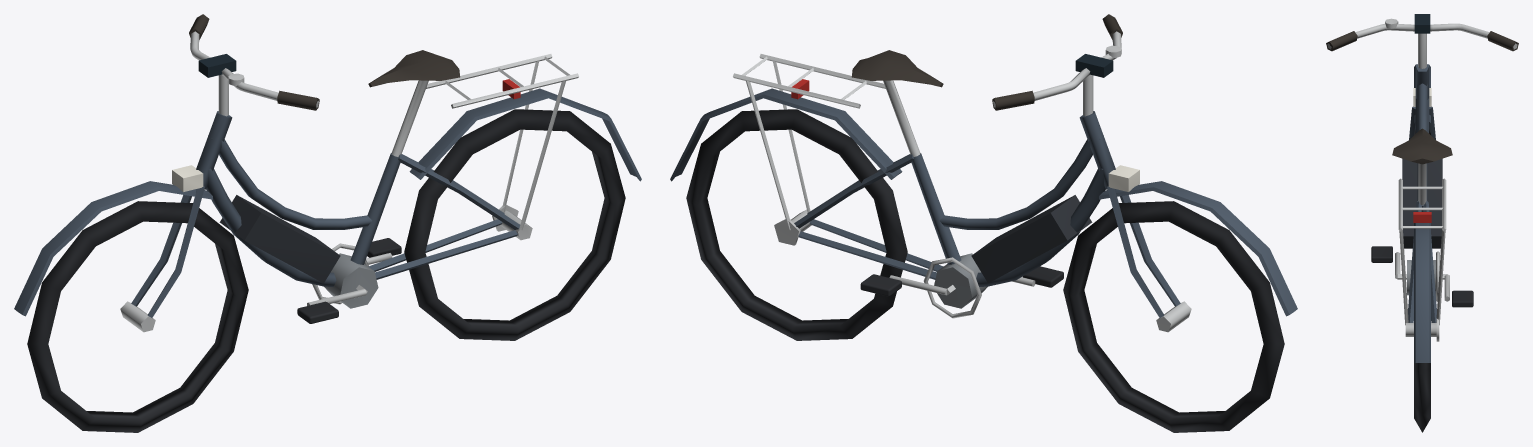
Rendered from eBike.far.glb.
3 renders of one model, left to right at view 1: azimuth 30°, elevation 25°; view 2: azimuth 150°, elevation 25°; view 3: azimuth 270°, elevation 25°, orthographic. The views are drawn at different scales.
Parts seen in each view (by area): view 1: eBike; view 2: eBike; view 3: eBike.
Part boxes in pixels (x1,y1,x2,y2): eBike: (14, 14, 641, 432); eBike: (670, 14, 1297, 432); eBike: (1326, 14, 1518, 432).
Bounding box in the file's own units: 1.88 × 1.02 × 0.6229.
